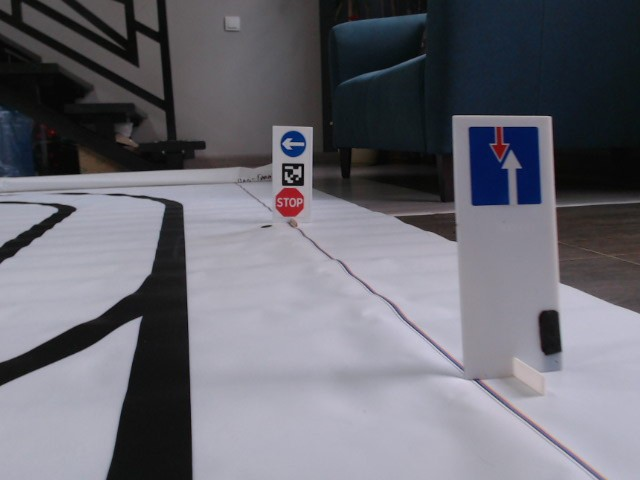Stop: (274, 187, 305, 218)
priority_movement: (467, 125, 543, 206)
